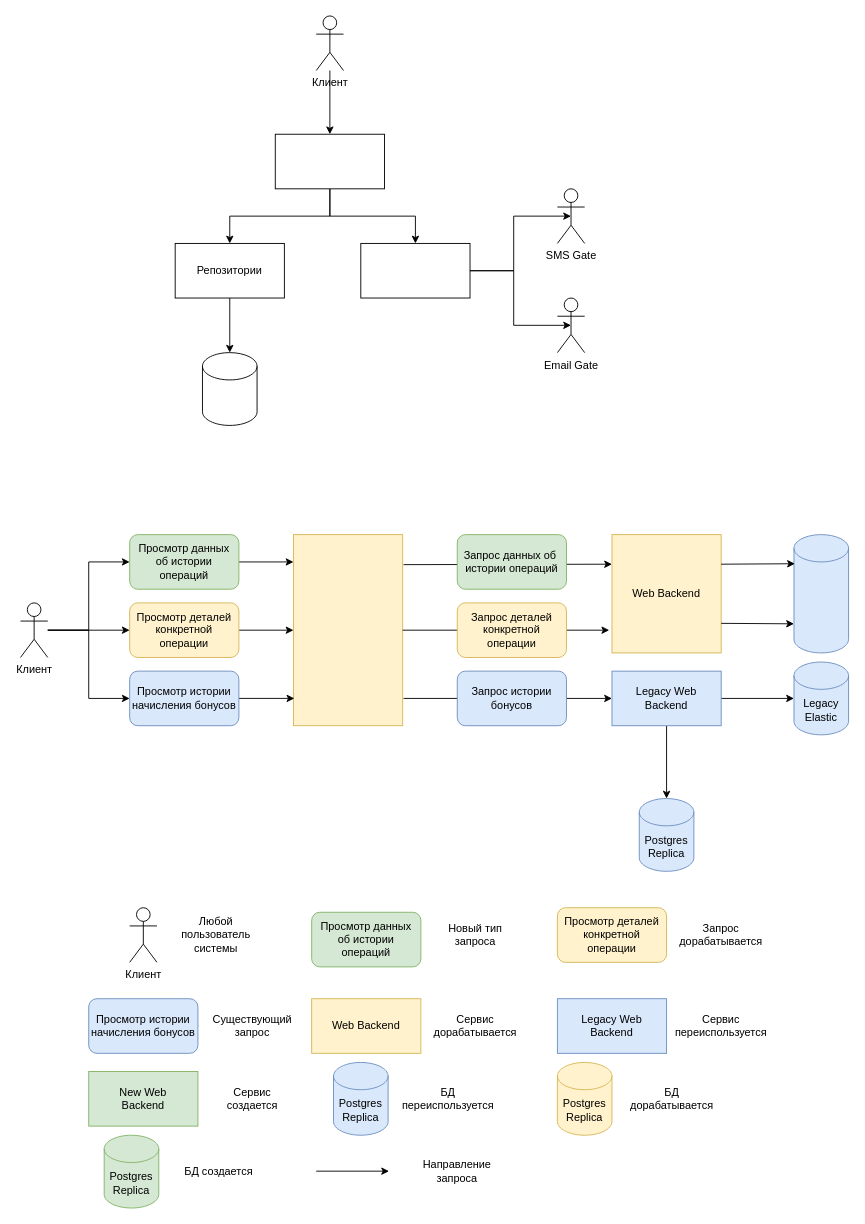
The diagram is 865 pixels wide and 1224 high, and some of its shapes have lost their labels. The centre of each missing label's shape, as x and y in pixels:
"Elastic" goes at [821,593].
"Postgres" goes at [229,388].
"Web App" goes at [348,630].
"Хендлеры" goes at [329,161].
"Шлюзы" goes at [415,270].
